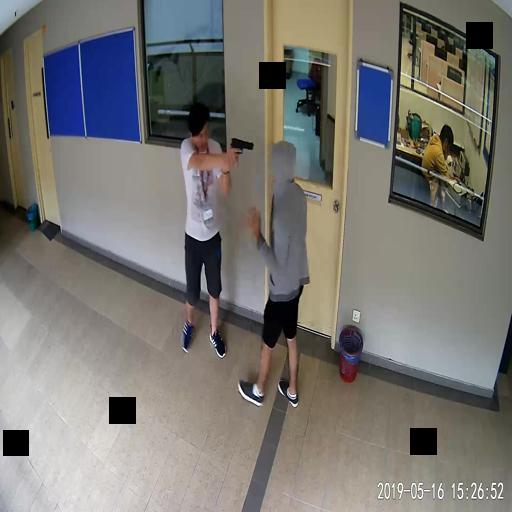Handgun: (229, 135, 252, 163)
